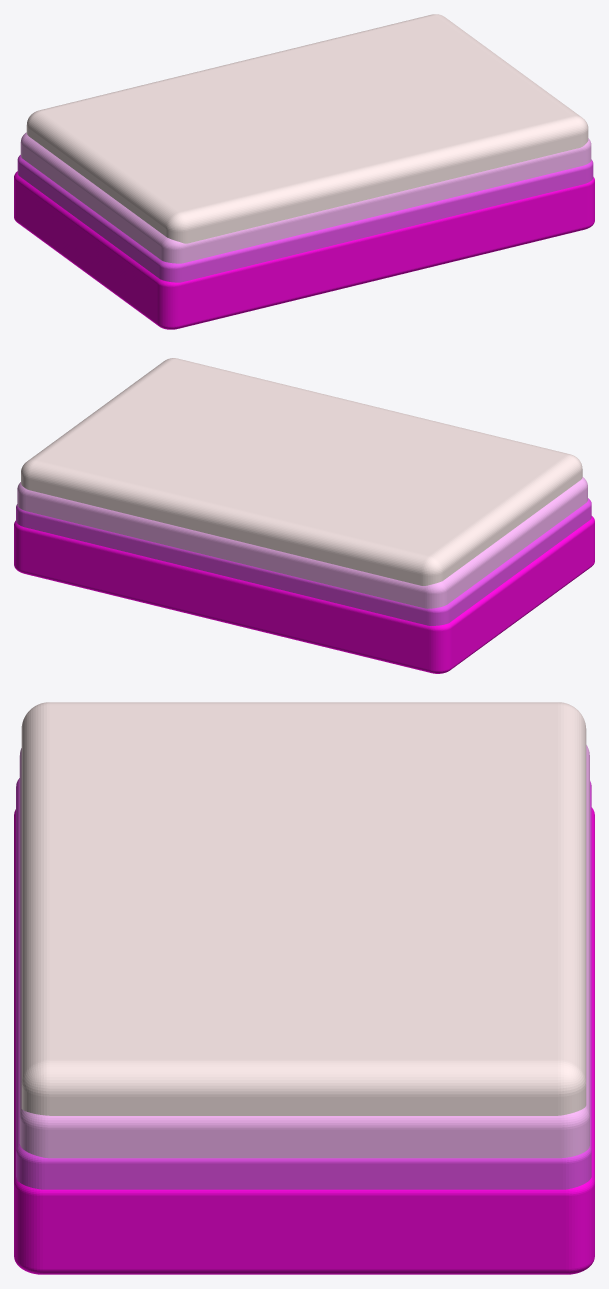
Rendered from boloretangulo cobertura neon ROSA.glb.
3 renders of one model, top to bottom at view 1: azimuth 30°, elevation 25°; view 2: azimuth 150°, elevation 25°; view 3: azimuth 270°, elevation 25°, orthographic. The views are drawn at different scales.
Visible parts, largest first — view 1: Cube.003, Cube.002, Cube.000, Cube.001; view 2: Cube.003, Cube.002, Cube.000, Cube.001; view 3: Cube.003, Cube.002, Cube.000, Cube.001.
Boxes of the visible parts, x1,y1,x2,y2 form: Cube.003: (26,14,588,243); Cube.002: (14,171,594,329); Cube.000: (20,132,591,263); Cube.001: (17,155,593,282); Cube.003: (21,358,582,585); Cube.002: (14,516,594,673); Cube.000: (17,477,587,608); Cube.001: (16,498,591,625); Cube.003: (21,702,586,1115); Cube.002: (14,807,594,1274); Cube.000: (19,745,589,1158); Cube.001: (16,778,591,1189).
Size of the model in its own units: 3.43 by 0.8379 by 2.14.
